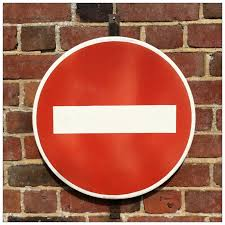No_entry: (31, 35, 196, 200)
